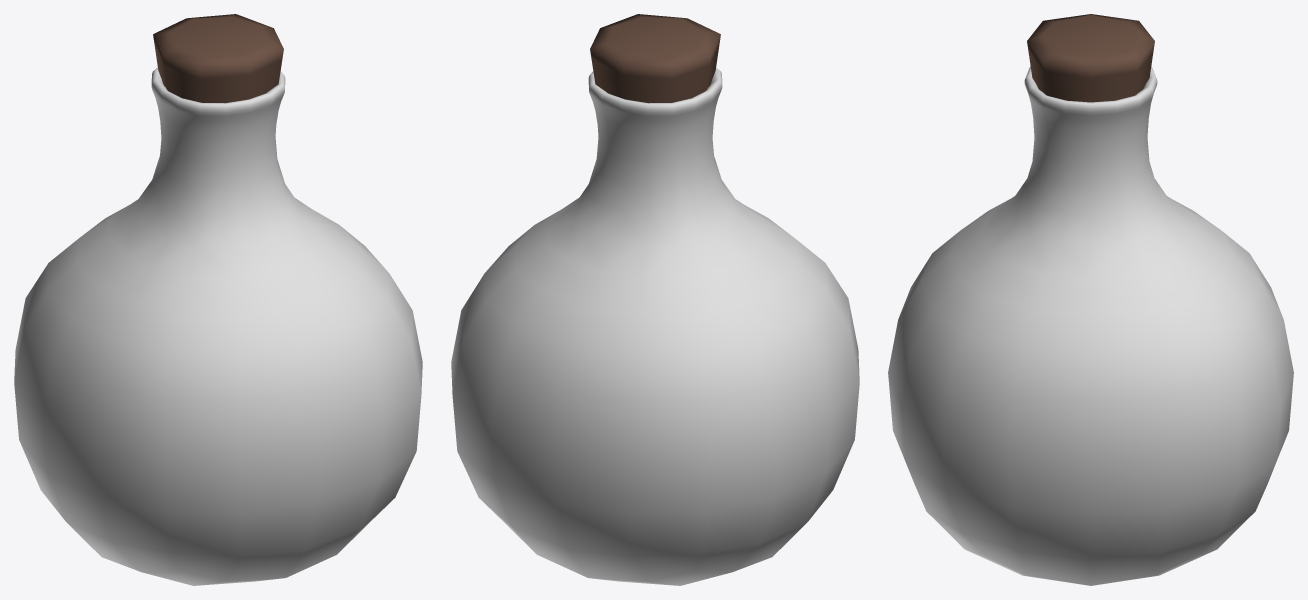
File: SM_Potion1_Filled.fbx
3 renders of one model, left to right at view 1: azimuth 30°, elevation 25°; view 2: azimuth 150°, elevation 25°; view 3: azimuth 270°, elevation 25°, orthographic.
Visible parts, largest first — view 1: SM_Potion1_Filled; view 2: SM_Potion1_Filled; view 3: SM_Potion1_Filled.
Part boxes in pixels (x1=…): SM_Potion1_Filled: x1=14, y1=14, x2=422, y2=585; SM_Potion1_Filled: x1=451, y1=14, x2=859, y2=585; SM_Potion1_Filled: x1=888, y1=14, x2=1293, y2=585.
Bounding box in the file's own units: 66.85 × 96.29 × 66.85.
